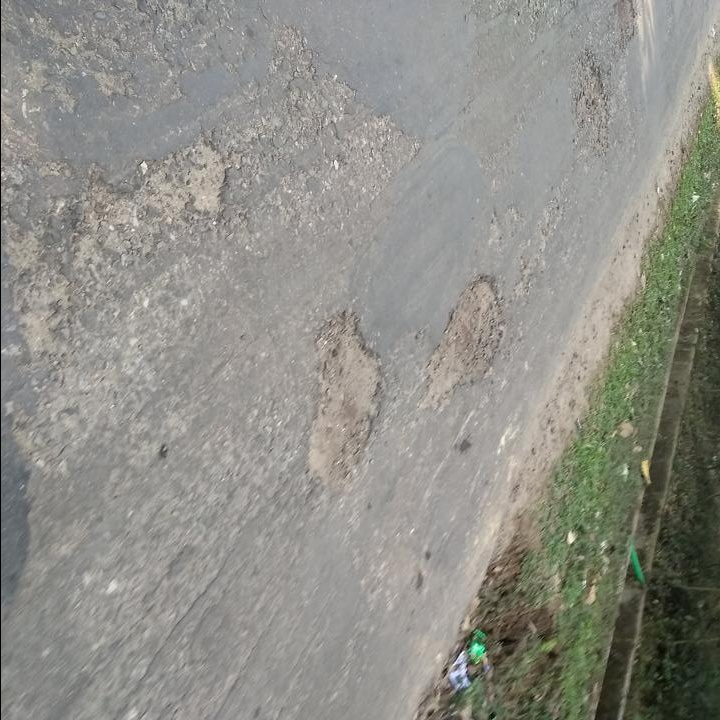pothole: (300, 307, 390, 486), (419, 267, 506, 404), (175, 132, 235, 217), (568, 53, 613, 146), (610, 0, 642, 51)
